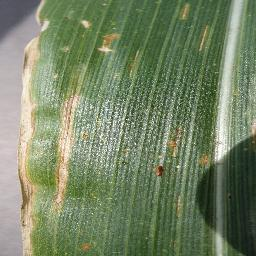Gray_Leaf_Spot: (11, 0, 48, 256), (47, 94, 71, 222), (68, 85, 97, 141), (95, 28, 122, 58), (169, 0, 200, 20), (240, 116, 256, 154), (75, 15, 106, 33), (196, 20, 210, 56), (165, 125, 182, 154), (197, 146, 215, 171), (174, 192, 188, 219), (151, 162, 171, 179), (59, 43, 82, 57), (74, 241, 94, 255)
